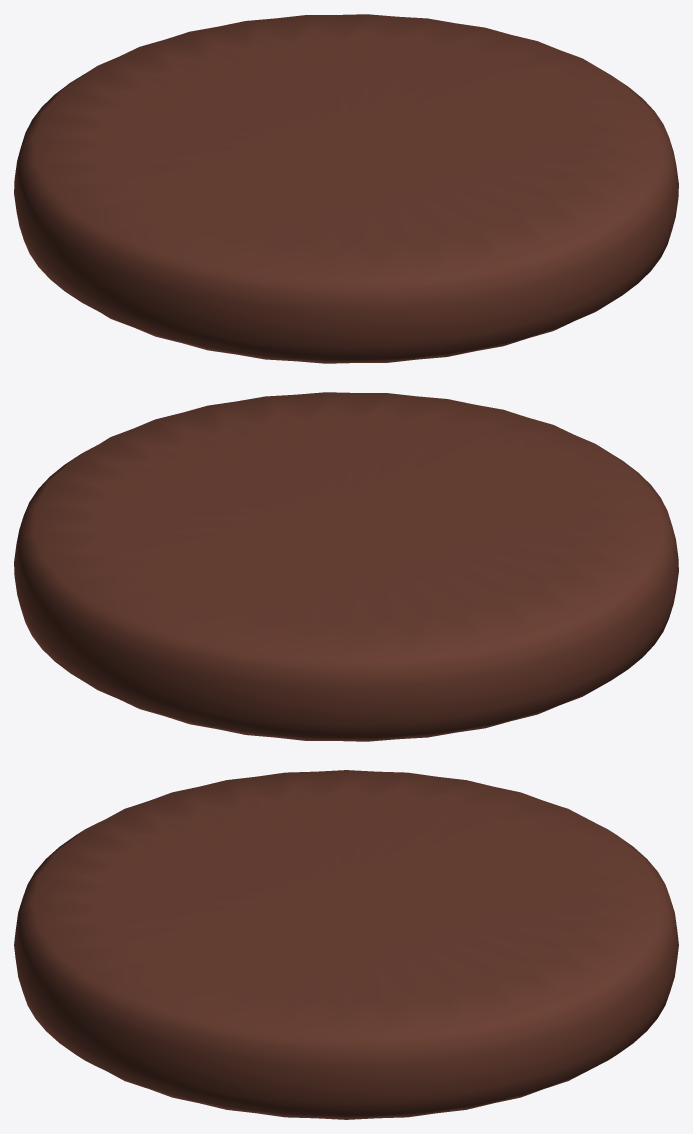
Rendered from steak-CUIT-A-POINT.fbx.
3 renders of one model, top to bottom at view 1: azimuth 30°, elevation 25°; view 2: azimuth 150°, elevation 25°; view 3: azimuth 270°, elevation 25°, orthographic.
Parts seen in each view (by area): view 1: Circle; view 2: Circle; view 3: Circle.
Boxes of the visible parts, left/top/right/bottom form: Circle: left=14, top=14, right=678, bottom=363; Circle: left=14, top=392, right=678, bottom=741; Circle: left=14, top=770, right=678, bottom=1119.
Bounding box in the file's own units: 202 × 32.24 × 202.
